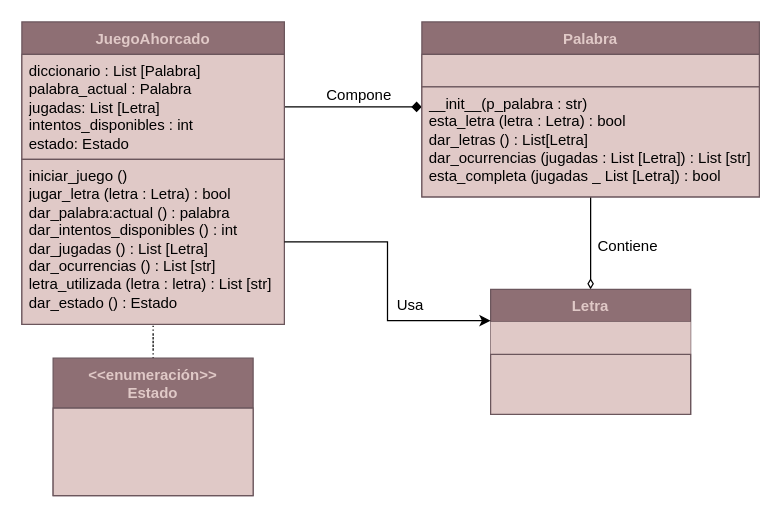
Some shapes in this 781 by 521 pixel diagram are drawn without their labels. The shapes that lost their labels are listed below. From the top down, each one's centre as x and y in pixels, then its label:
point 590,70: letras : List [Letra]
point 590,337: letra : str
point 590,383: dar_letra () : str es_igual (letra : Letra) : bool
point 152,451: NO_INICIADO JUGANDO GANADOR AHORCADO
